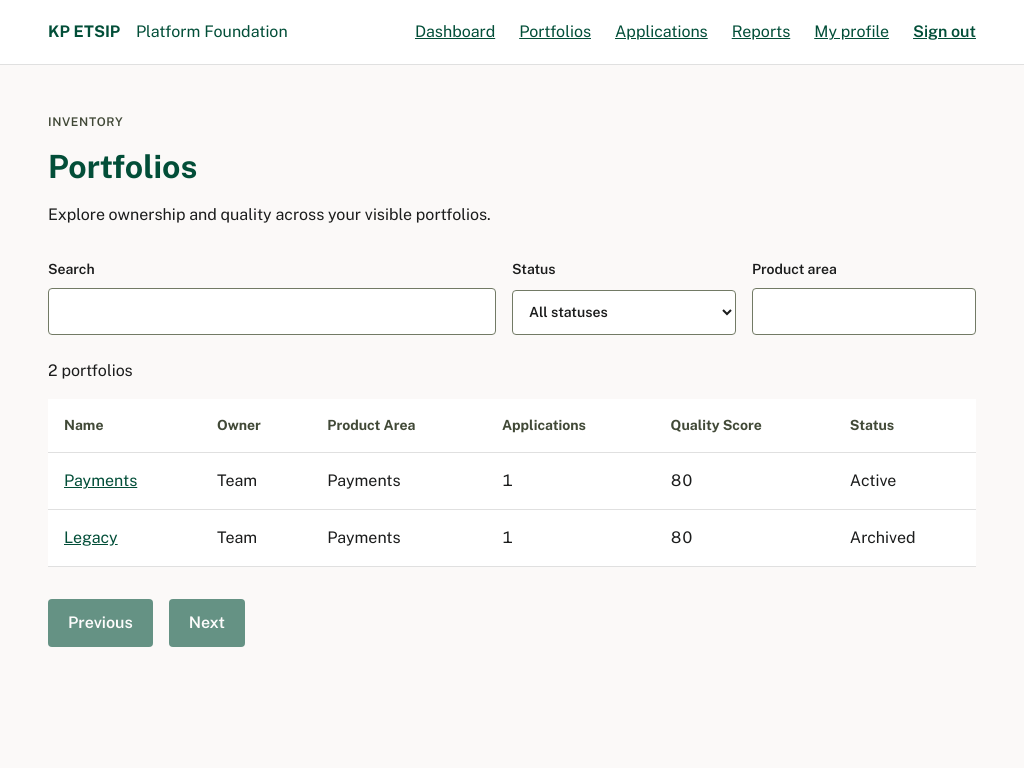
Test: portfolio inventory › renders scoped results and sends filters to the API
The width and height of the screenshot is (1024, 768).
Expected: the link "Payments" is shown, [64,471,137,490]
Expected: the link "Legacy" is shown, [64,528,118,547]
Select "Archived" in the dropdown labelled "Status": (624,312) [512,290,736,335]
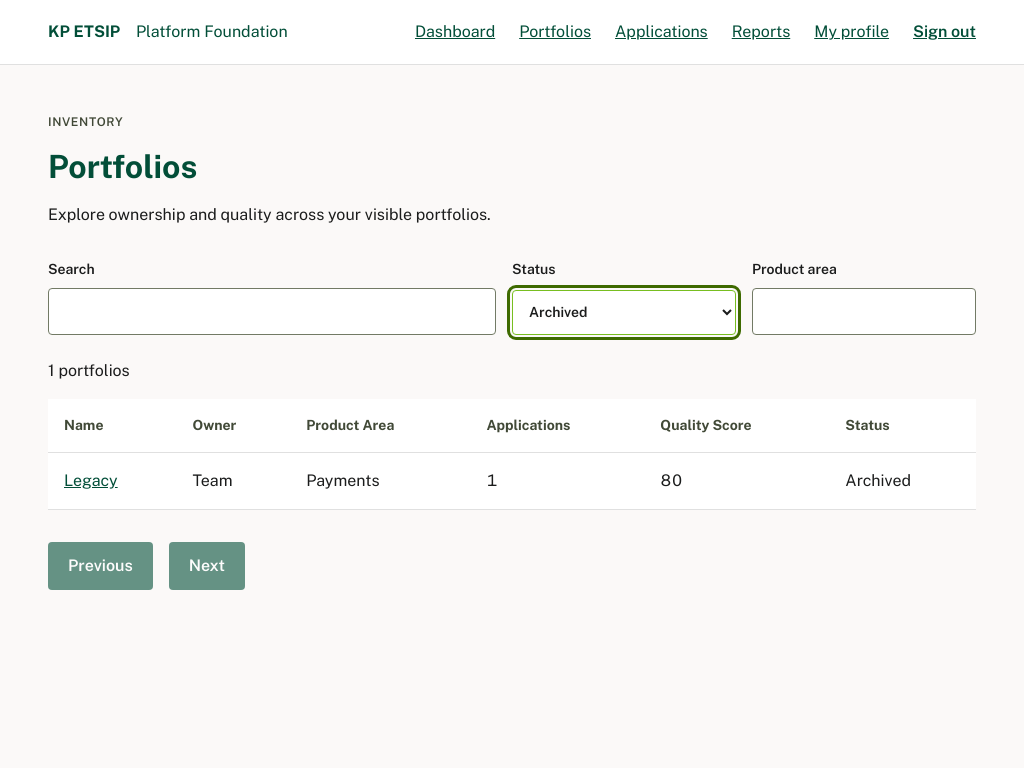
Expected: the link "Legacy" is shown, [64,471,118,490]
Result: the text "1 portfolios" is shown at [48,361,130,380]
